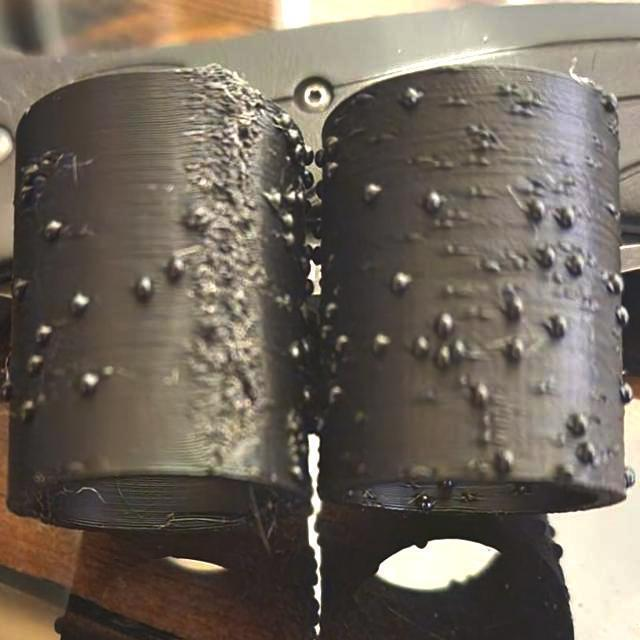zits: (14, 392, 46, 426), (524, 188, 554, 224), (564, 247, 594, 281), (66, 282, 94, 318), (362, 326, 398, 354), (606, 266, 633, 303), (417, 182, 447, 214), (40, 208, 68, 242), (134, 272, 160, 308), (165, 244, 191, 280), (503, 289, 529, 325), (384, 265, 416, 293), (78, 362, 102, 398), (400, 80, 425, 114), (468, 380, 498, 408), (556, 202, 581, 234), (404, 330, 432, 358), (568, 409, 594, 439), (582, 432, 604, 466), (546, 311, 570, 342), (24, 348, 48, 377), (506, 339, 526, 371), (611, 298, 632, 328), (364, 173, 386, 201), (284, 335, 304, 365), (496, 441, 518, 468), (30, 319, 54, 343), (618, 375, 634, 409), (274, 212, 298, 234), (323, 128, 343, 154), (332, 332, 355, 354), (436, 308, 454, 335), (322, 298, 344, 320), (322, 158, 344, 180), (448, 339, 471, 360), (282, 229, 302, 253), (435, 344, 455, 368), (463, 119, 483, 139), (621, 466, 640, 487), (288, 120, 306, 141), (602, 197, 620, 217), (479, 132, 494, 152), (501, 83, 519, 97)
